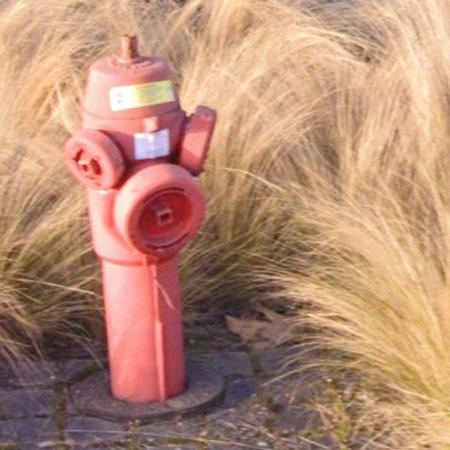a fire hydrant: (64, 35, 217, 402)
